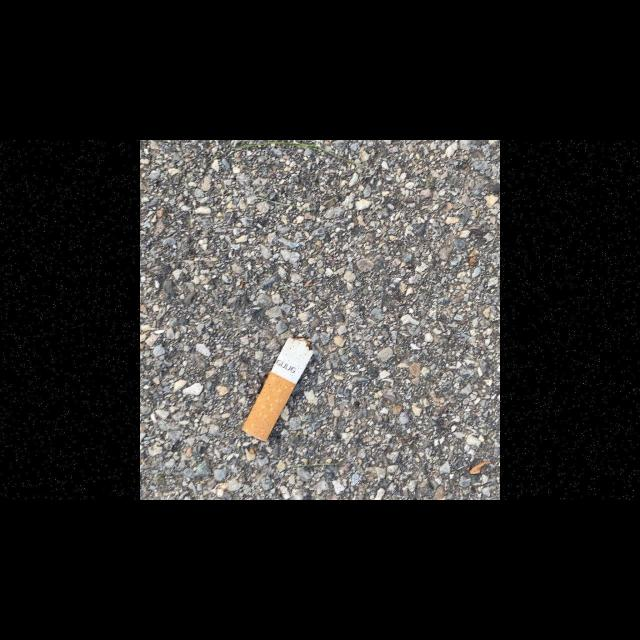cigarette: (241, 336, 315, 442)
